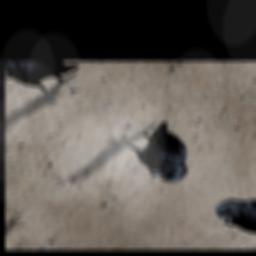Crow: (99, 109, 215, 188)
